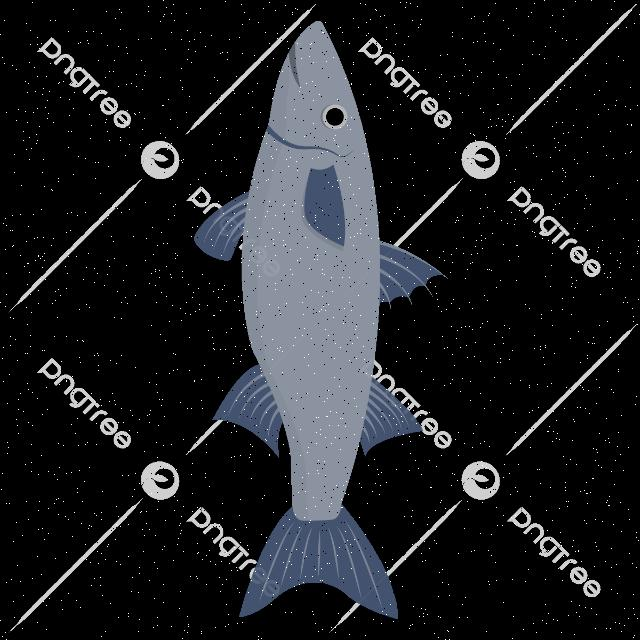Mulut: (258, 25, 322, 97)
Sirip Anal: (192, 351, 300, 473)
Sirip Dada: (292, 155, 361, 259)
Sirip Ekor: (230, 512, 418, 626)
Sirip Perut: (187, 188, 261, 272)
Sirip Punggung: (348, 236, 444, 462)
